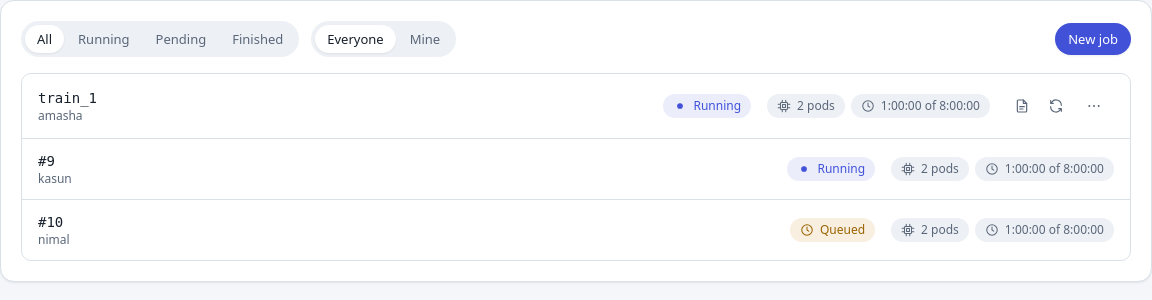
Test: Jobs filter › limits the list to my jobs with the scope control, with actions on my live jobs
The width and height of the screenshot is (1152, 300).
Click the radio button labelled "Mine": (425, 39) [398,25,452,53]
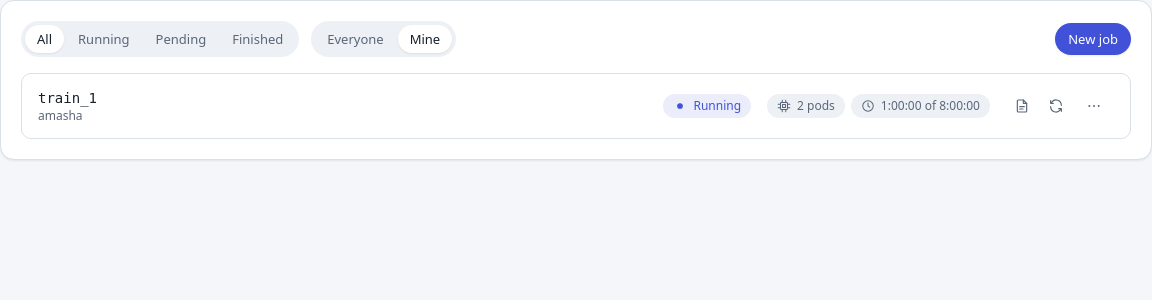
Now the number of list items is 1, box [22,74,1130,138]
Click the button named "More actions for job 512": (1094, 106) [1074,86,1114,126]
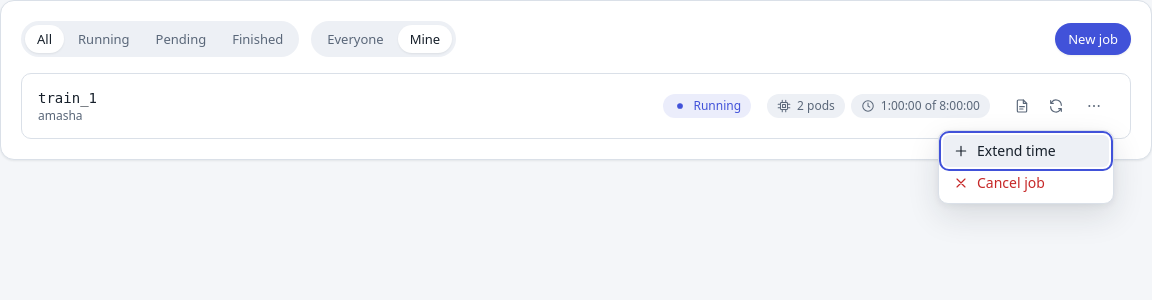
Now the menu items read "Extend time", "Cancel job", in this order, box [943,135,1109,167]; [943,167,1109,199]
